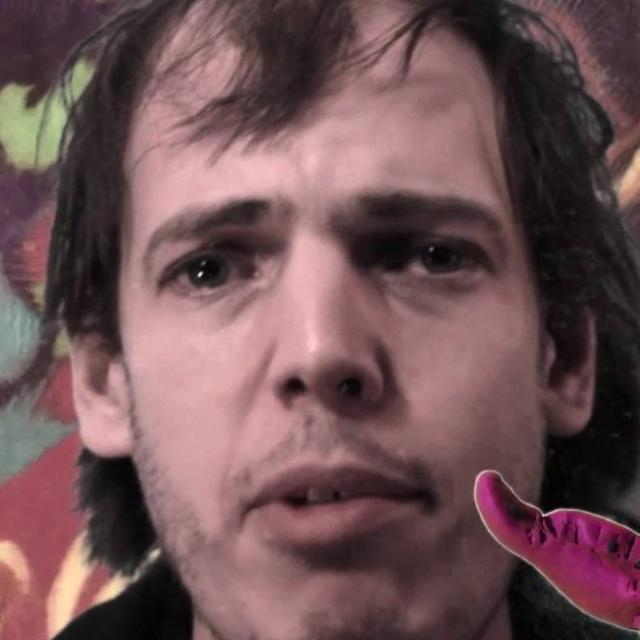Depress: (113, 11, 552, 639)
